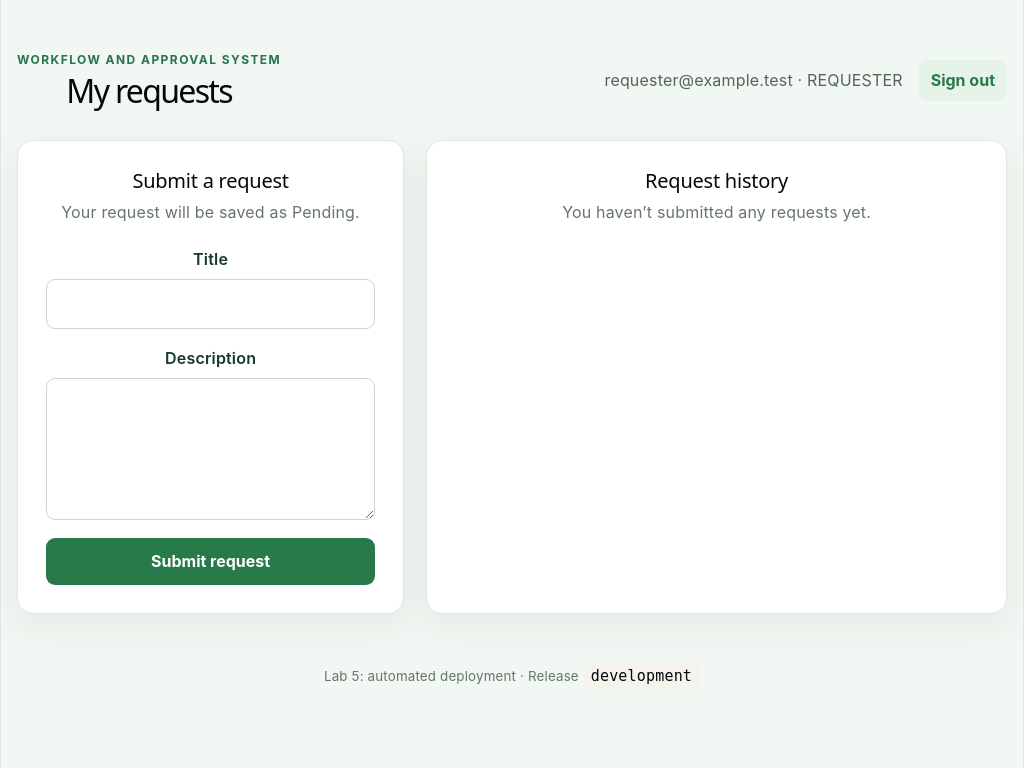
Test: F-02/F-03 Requester integration UI evidence › TEST-F02-UI-SUCCESS: confirms a saved request and reloads history
Type "Equipment" into the field labelled "Title" at (211, 304), box [46, 279, 375, 329]
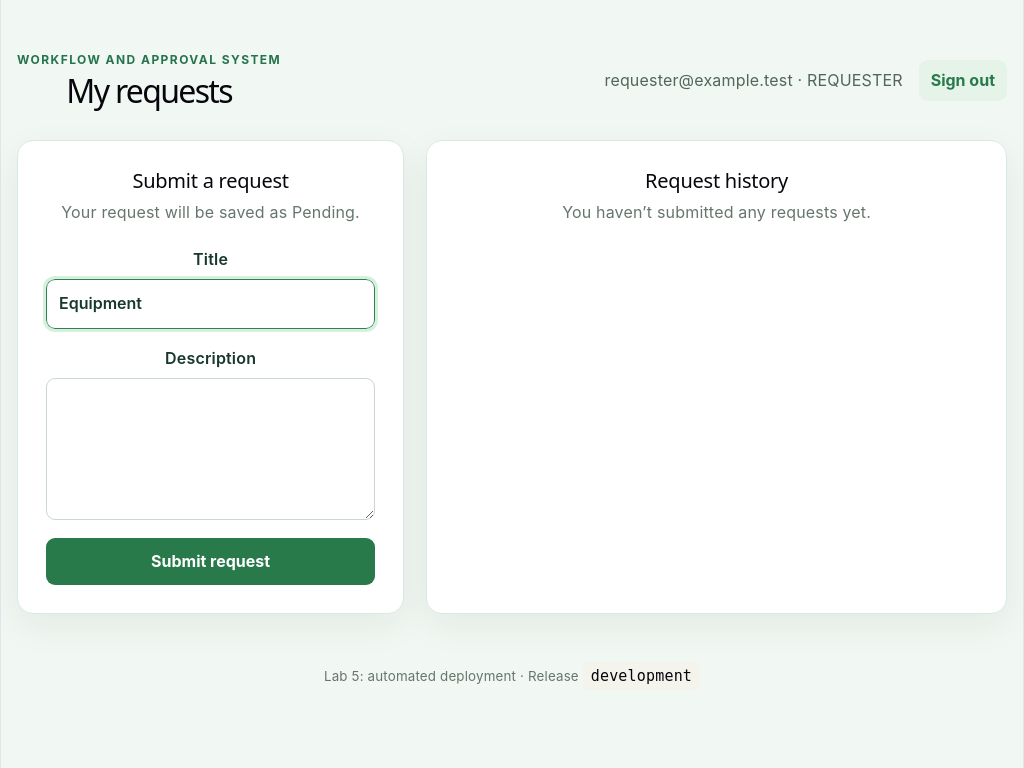
Type "New keyboard" into the text box labelled "Description" at (211, 449), box [46, 378, 375, 520]
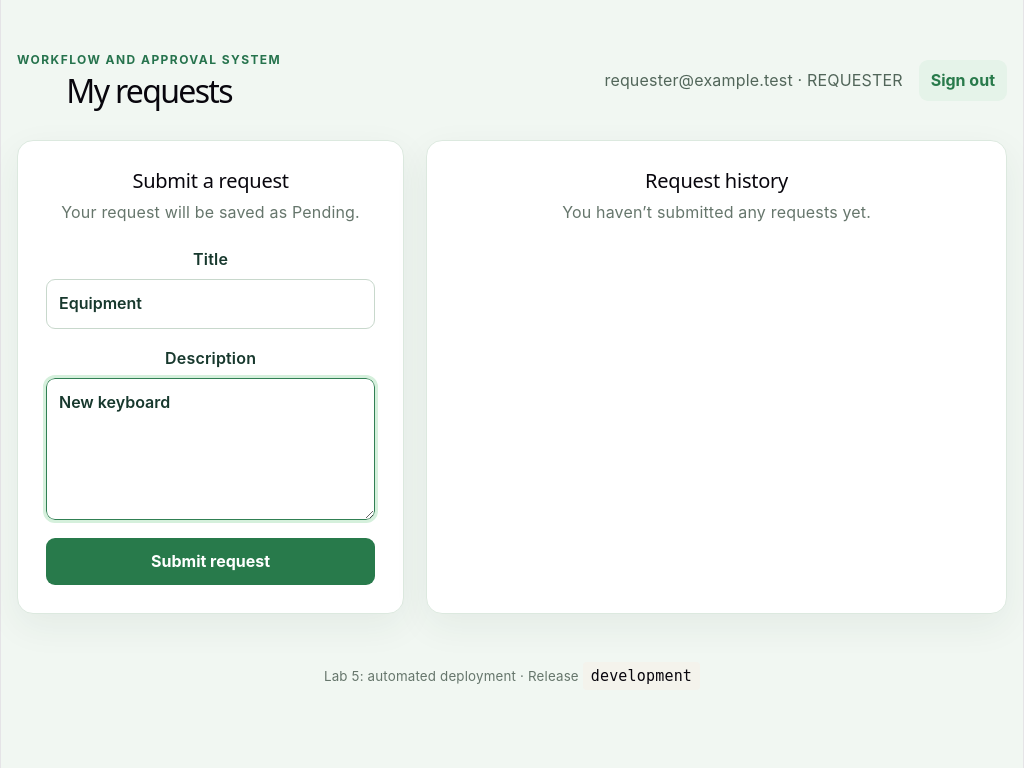
Click the button "Submit request" at (211, 561), box [46, 538, 375, 585]
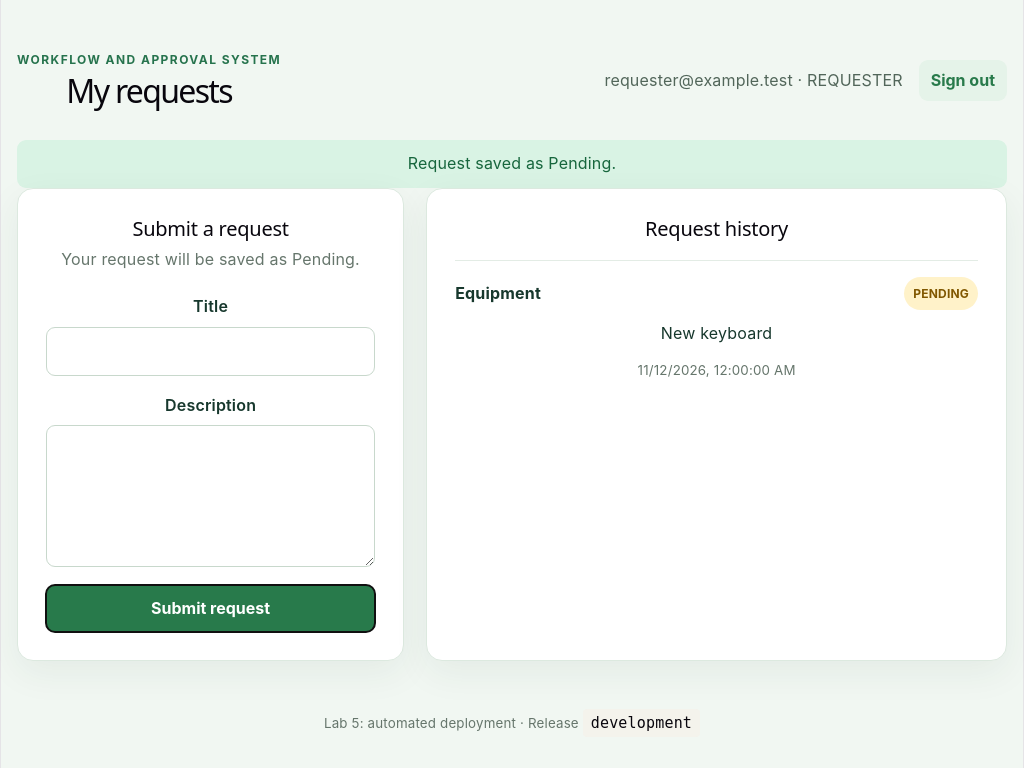
Expected: the message reads "Request saved as Pending.", [408, 153, 616, 173]
Expected: the text "Equipment" is shown, [455, 282, 541, 305]
Expected: the field labelled "Title" is empty, [46, 327, 375, 376]
